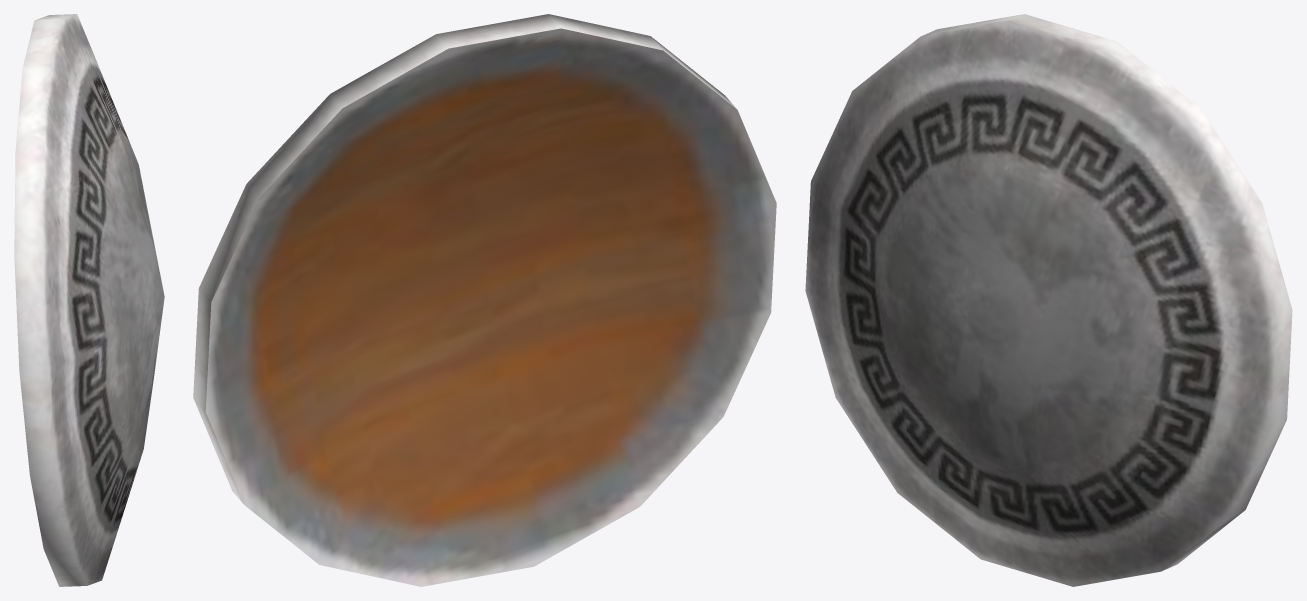
Rendered from shield-ironshields.glb.
The picture shows the model from 3 angles, left to right: view 1: azimuth 30°, elevation 25°; view 2: azimuth 150°, elevation 25°; view 3: azimuth 270°, elevation 25°; orthographic projection. The views are drawn at different scales.
Bounding box in the file's own units: 0.5438 × 0.8473 × 0.716.
Materials: 1 (1 with a texture image).
